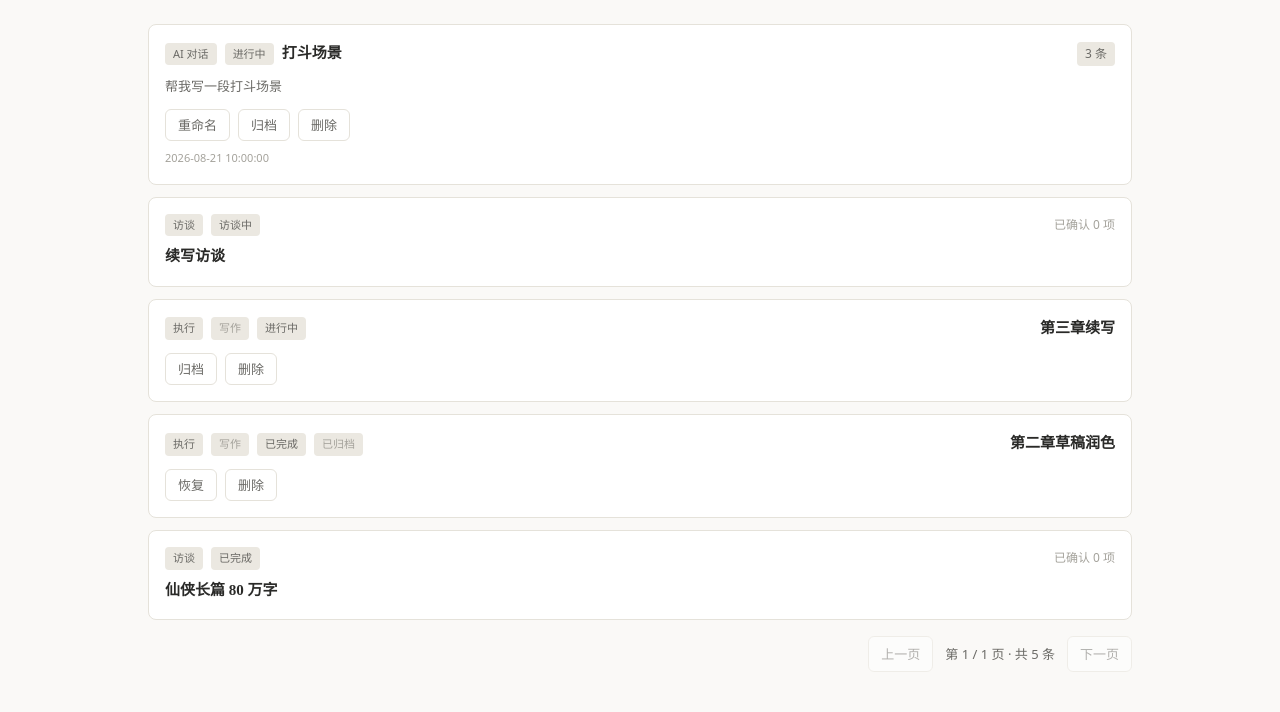
Test: #1015 访谈卡详情弹层（N11，决策点 1 拍板 A） › 弹层关闭：点 session-detail-close → dialog 移除，卡片仍在
(page scrolled)
Click the button with test id "session-title-pl-done".
click(221, 590)  # box [165, 578, 278, 603]
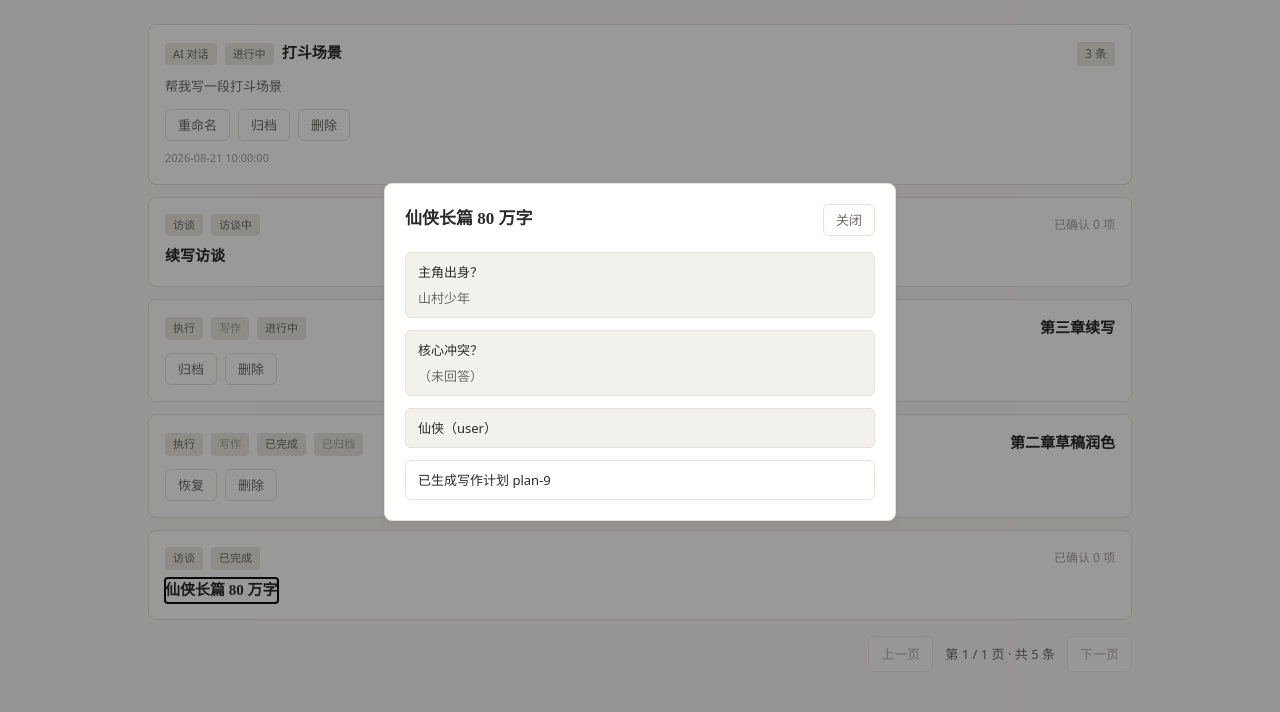
Click the button with test id "session-detail-close".
click(849, 220)  # box [823, 204, 875, 236]
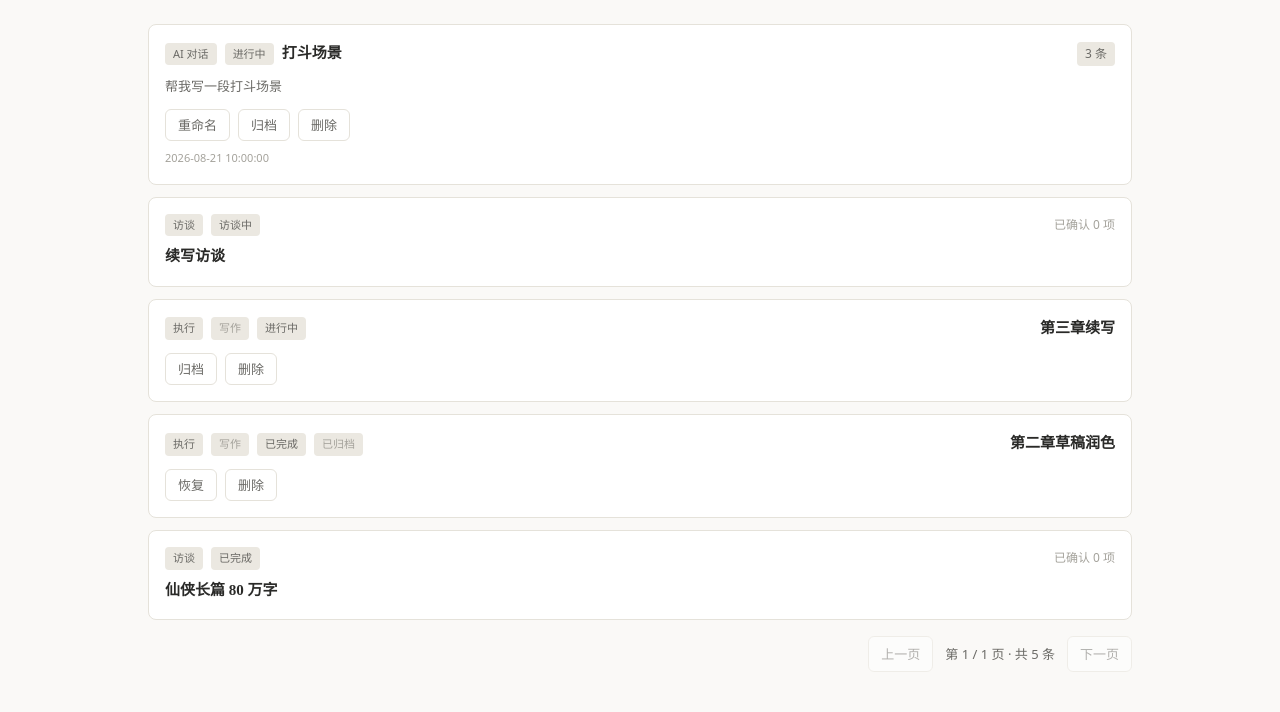
Expected: the button with test id "session-title-pl-done" is shown, [165, 578, 278, 603]
Expected: the dialog with test id "session-detail-dialog" is gone
